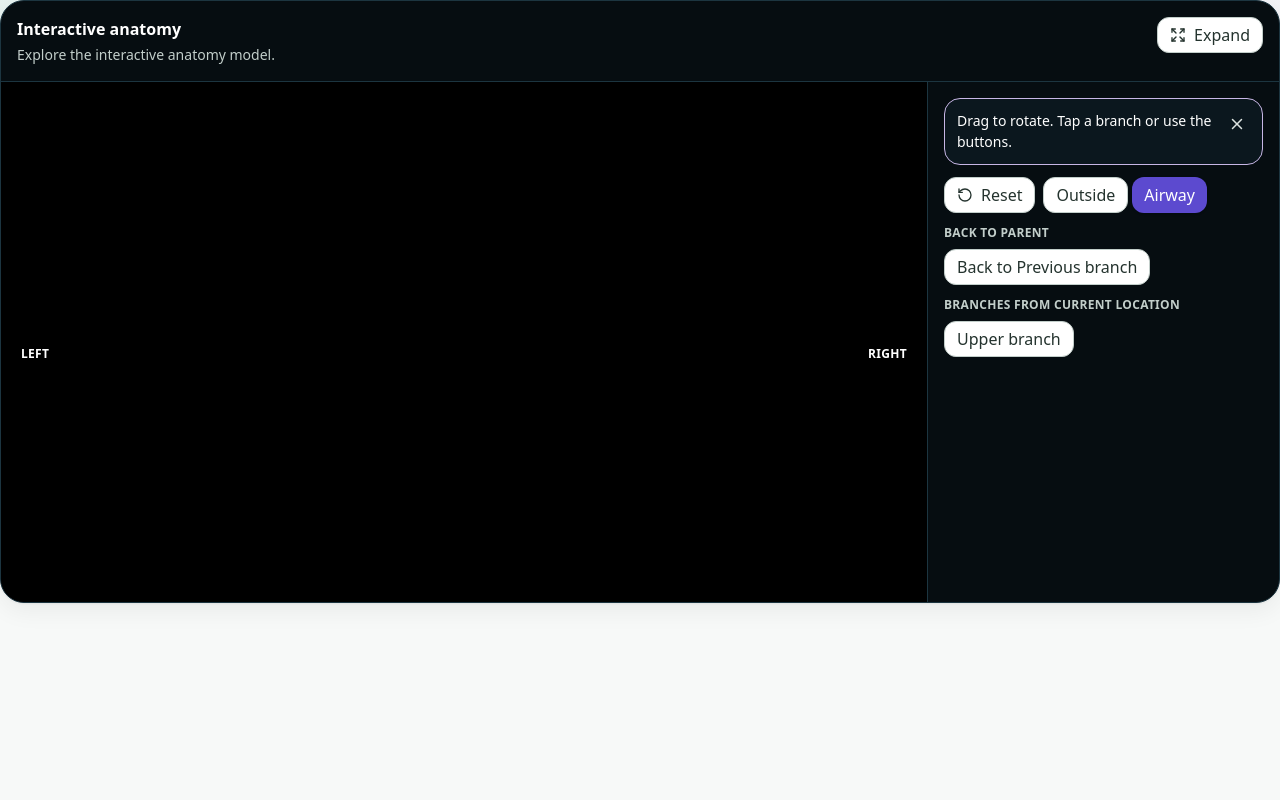
Scenario: AnatomyViewer › uses neutral navigation labels and hides the breadcrumb before commitment
Click the button "Back to Previous branch": coordinates (1047, 267) x1=944 y1=249 x2=1150 y2=285
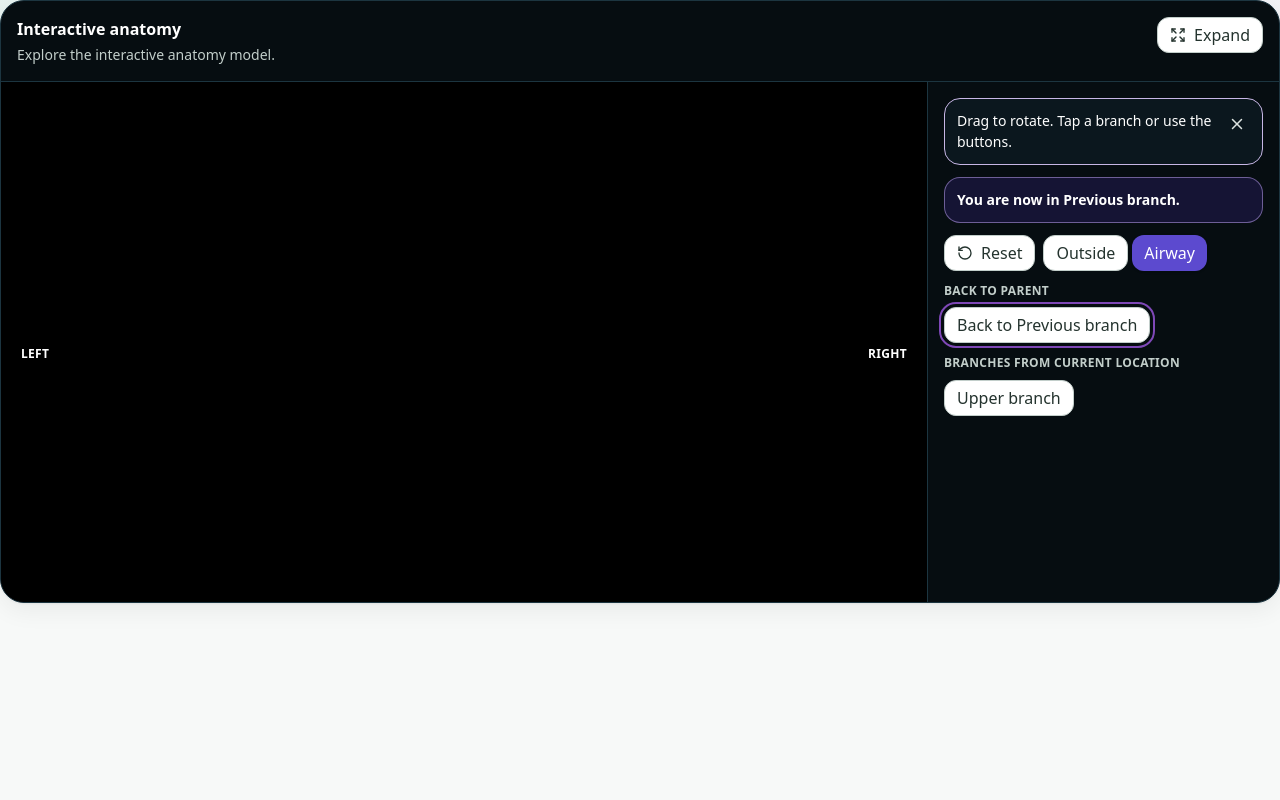
Now the message reads "You are now in Previous branch.", box x1=957 y1=190 x2=1180 y2=209
